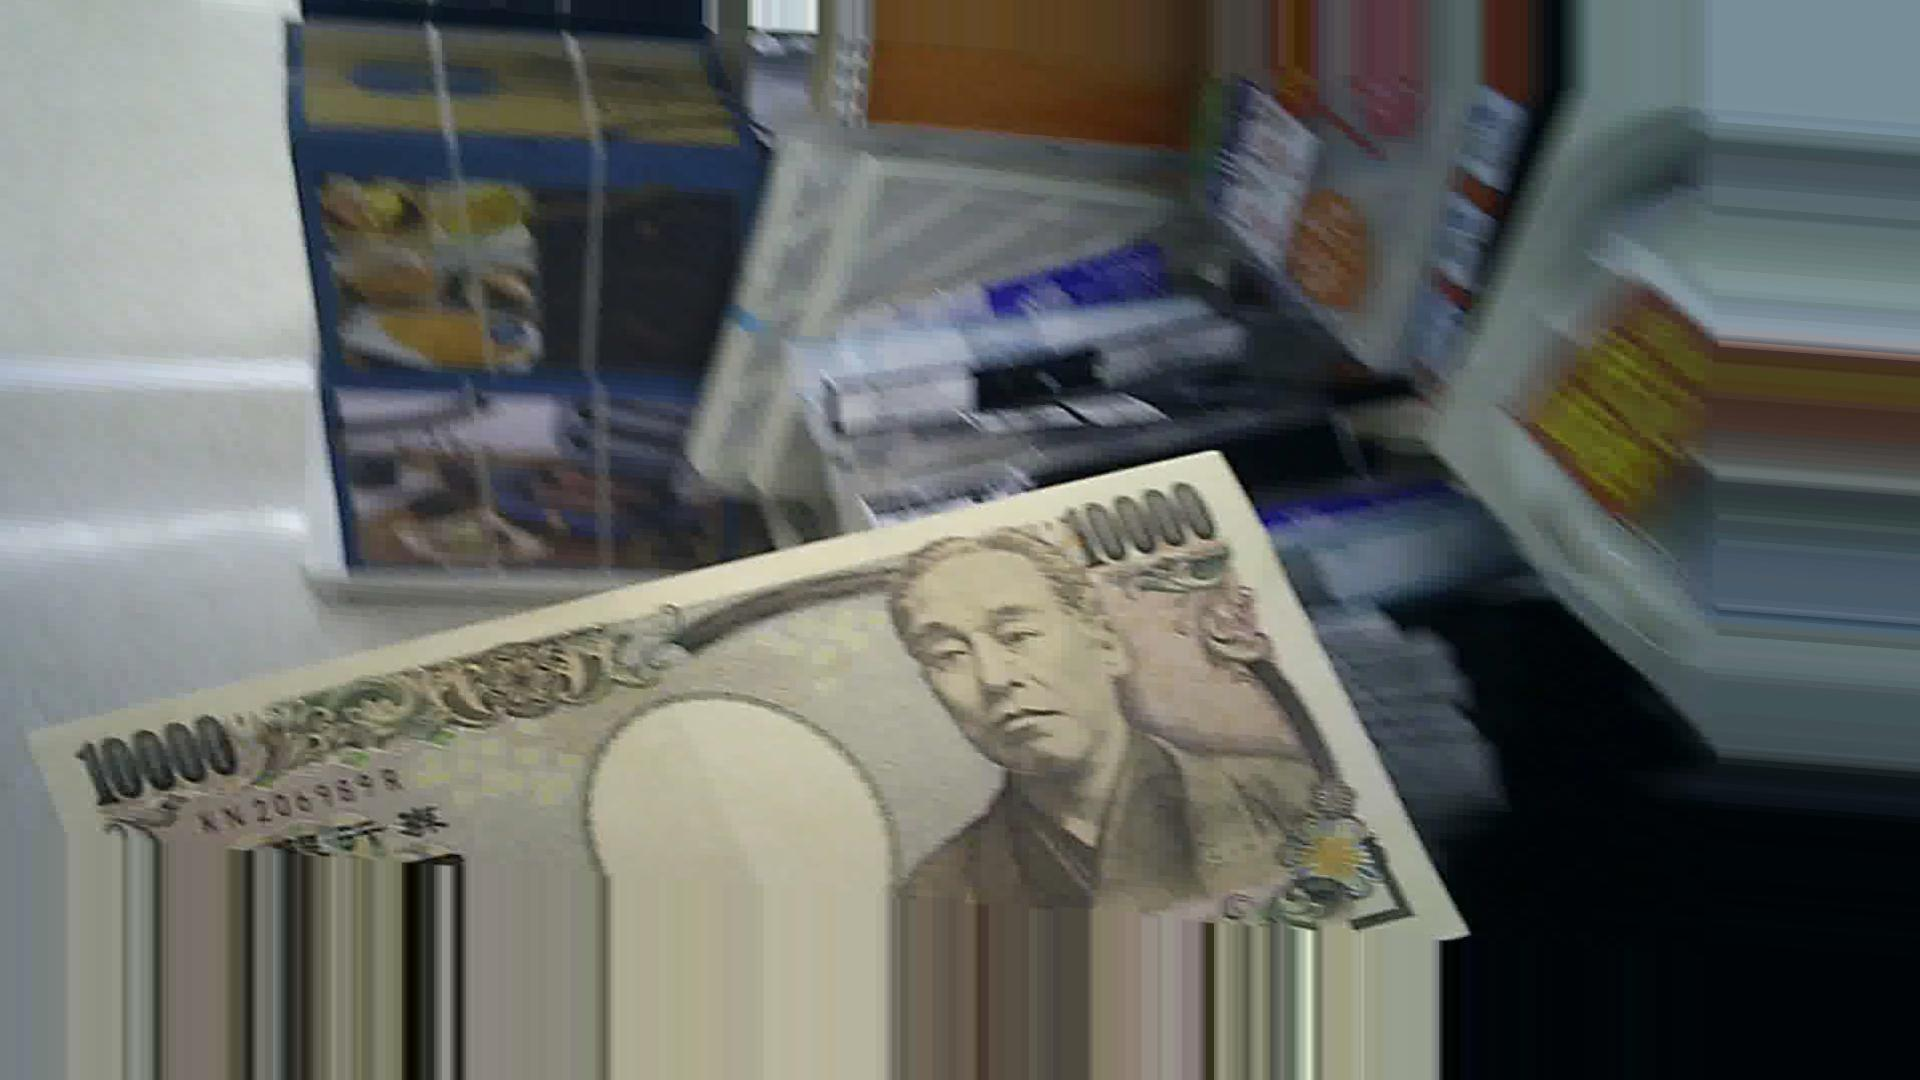10,000 Yen: (61, 430, 1470, 964)
